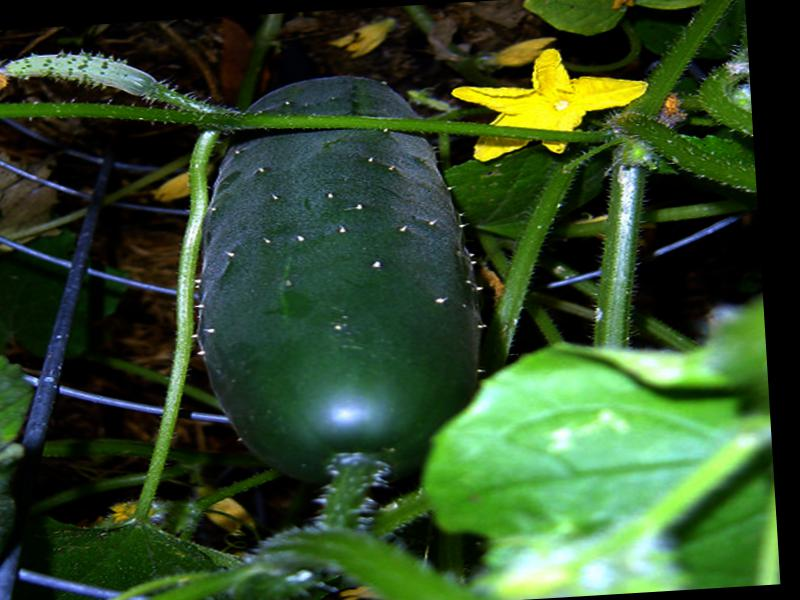Cucumber: (178, 70, 488, 493)
